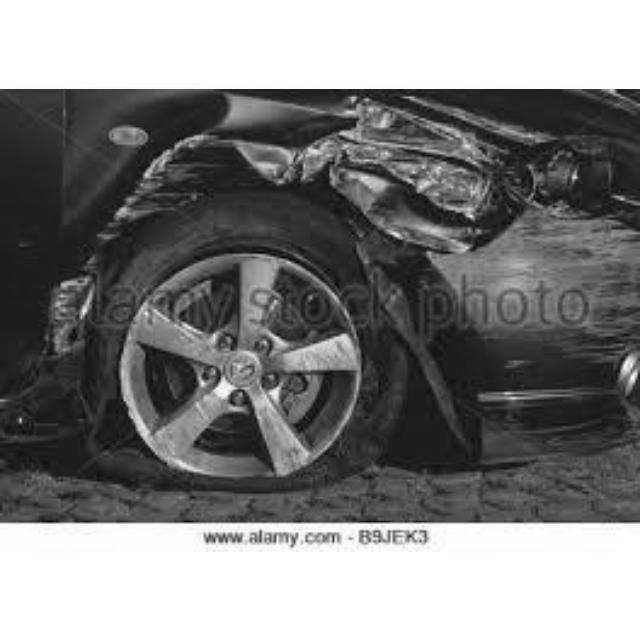fender-dent: (59, 89, 492, 212)
front-bumper-dent: (425, 209, 638, 449)
